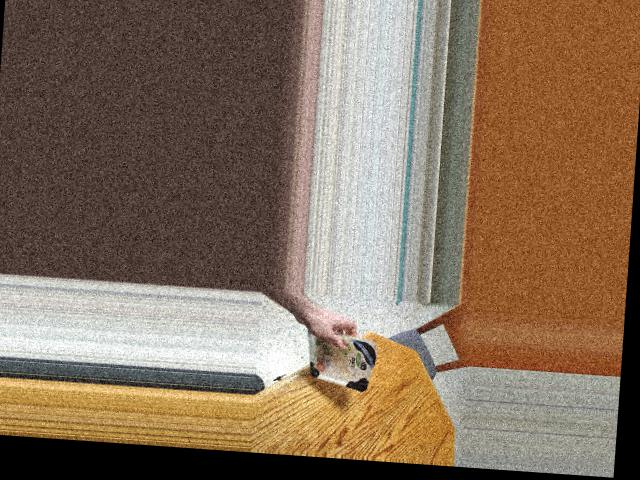cheese: (292, 326, 381, 388)
